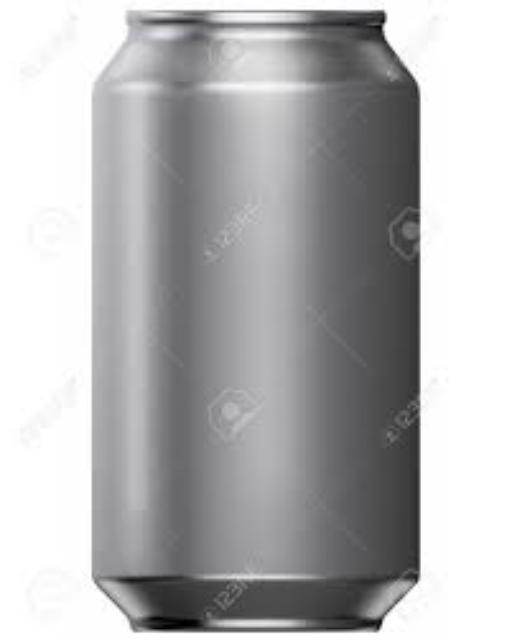metal: (89, 8, 413, 625)
